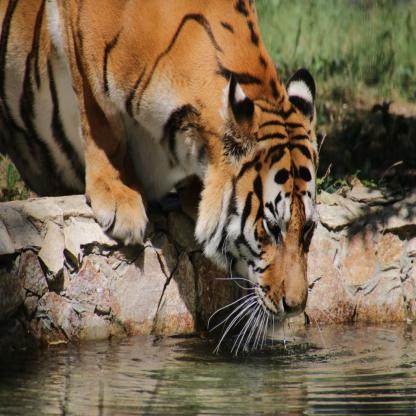Tiger: (0, 0, 343, 359)
